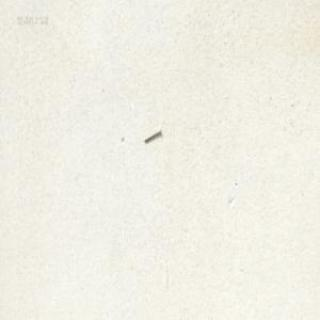Bolttrack_idkeyframe: (142, 127, 160, 142)
